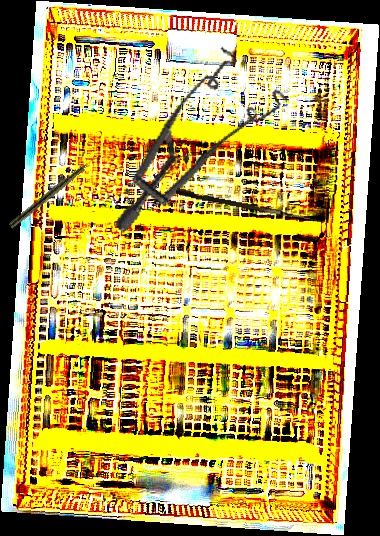Handpiece: (8, 152, 102, 230)
Hook Surgical: (175, 187, 326, 224)
Speculum: (113, 30, 297, 265)
